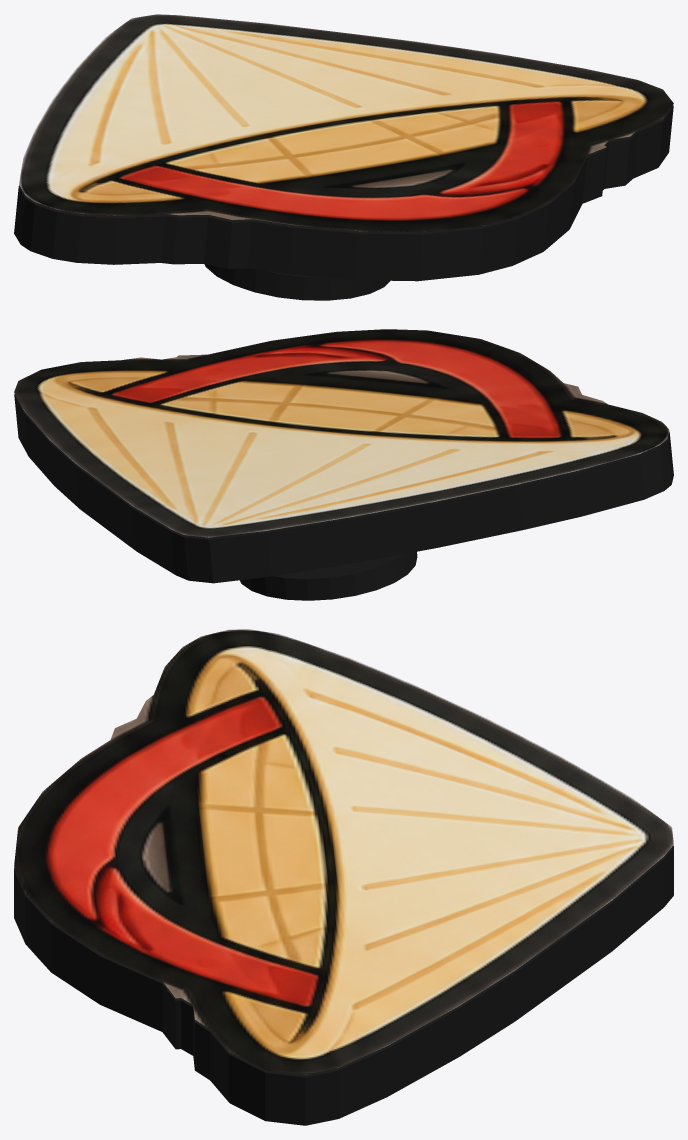
File: vietnam-conical-hat.glb
3 views of the same model, one above another, from view 1: azimuth 30°, elevation 25°; view 2: azimuth 150°, elevation 25°; view 3: azimuth 270°, elevation 25° (orthographic). The views are drawn at different scales.
Visible parts, largest first — view 1: VIETNAM_Conical_Hat_MODEL; view 2: VIETNAM_Conical_Hat_MODEL; view 3: VIETNAM_Conical_Hat_MODEL.
Part boxes in pixels (x1,y1,x2,y2): VIETNAM_Conical_Hat_MODEL: (14, 14, 673, 300); VIETNAM_Conical_Hat_MODEL: (14, 329, 673, 600); VIETNAM_Conical_Hat_MODEL: (14, 629, 673, 1125).
Size of the model in its own units: 0.3901 by 0.1031 by 0.2978.
3 materials, 1 textured.
